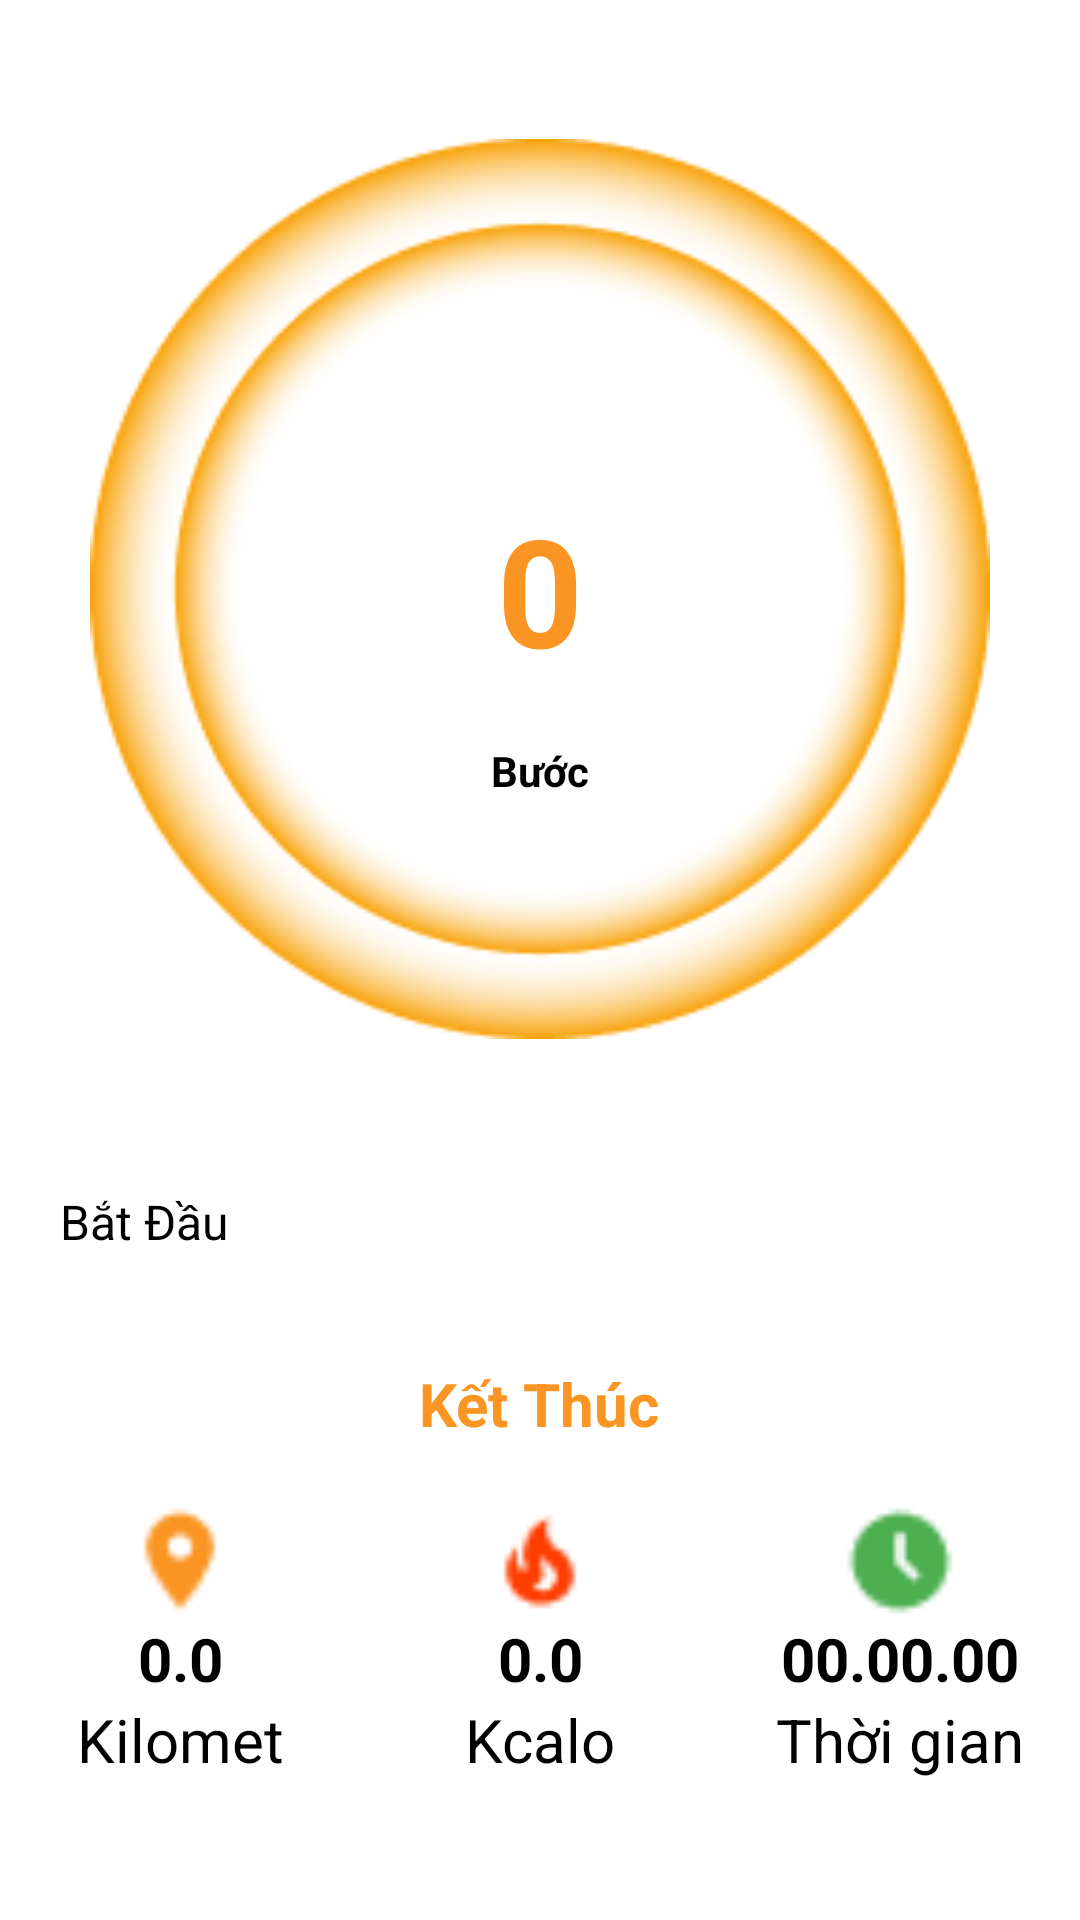

Icon bounding boxes for this 1080 x 1920 phone screenshot, format {"x1": x1, "y1": y1, "x2": x2, "y2": y2}:
thoigian: {"x1": 848, "y1": 1509, "x2": 952, "y2": 1613}
vitri: {"x1": 144, "y1": 1509, "x2": 216, "y2": 1609}
